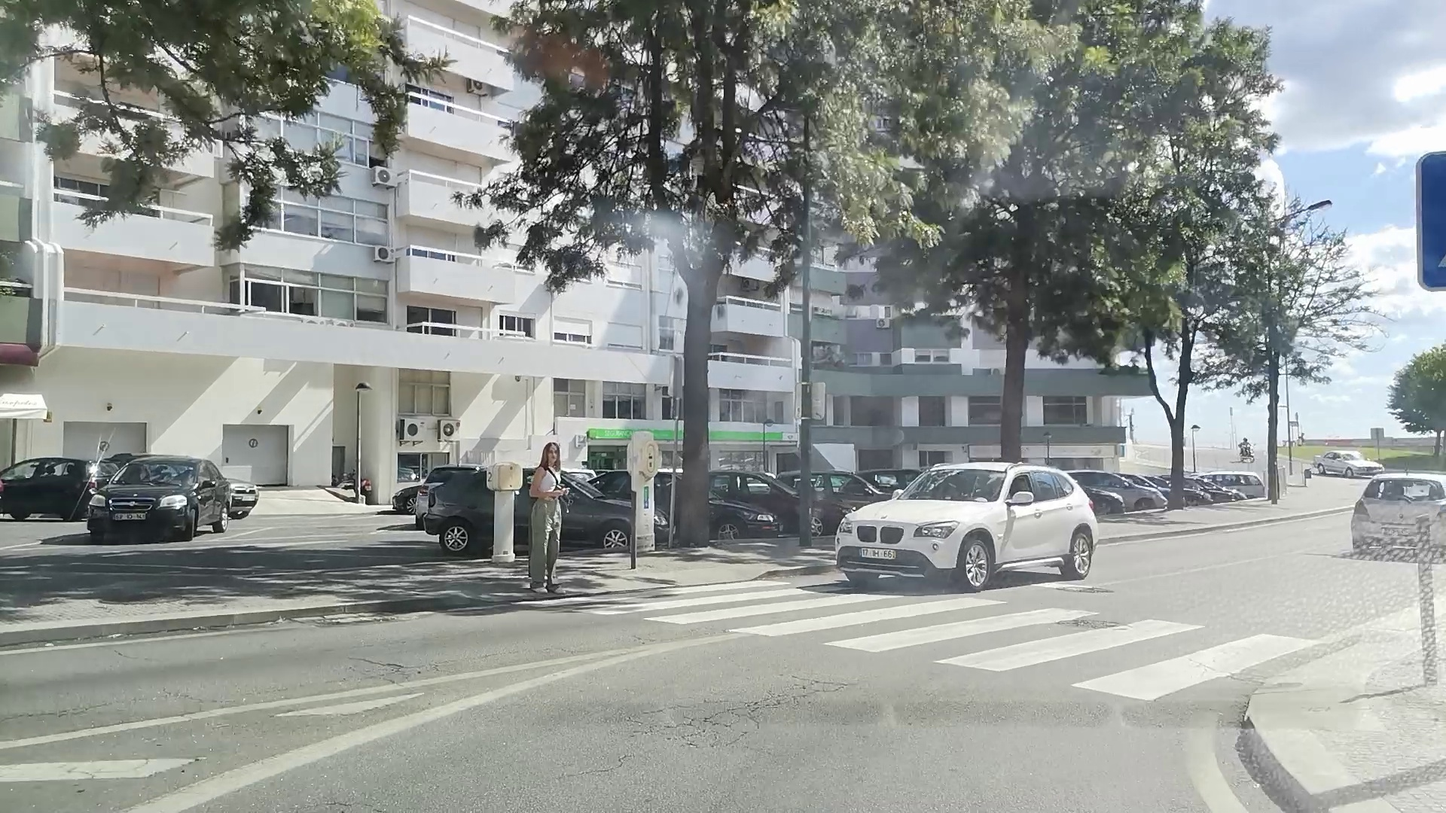Stairs: (506, 588, 1317, 704)
